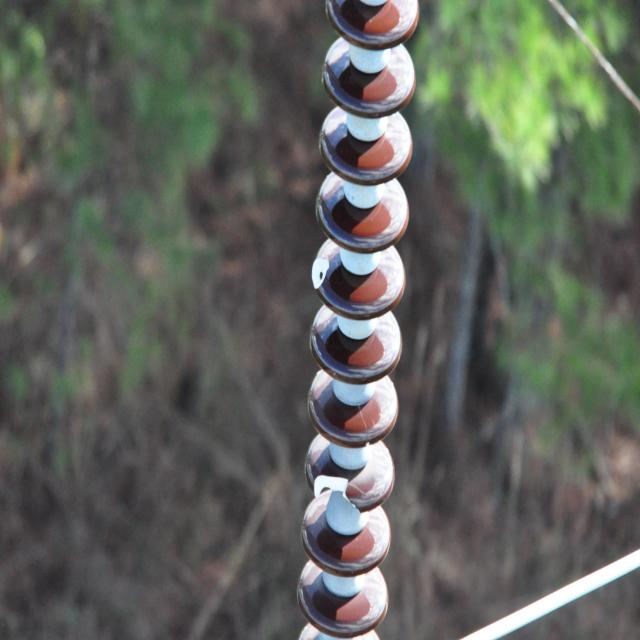broken: (314, 472, 364, 518), (310, 257, 330, 293)
insulator: (292, 2, 418, 638)
